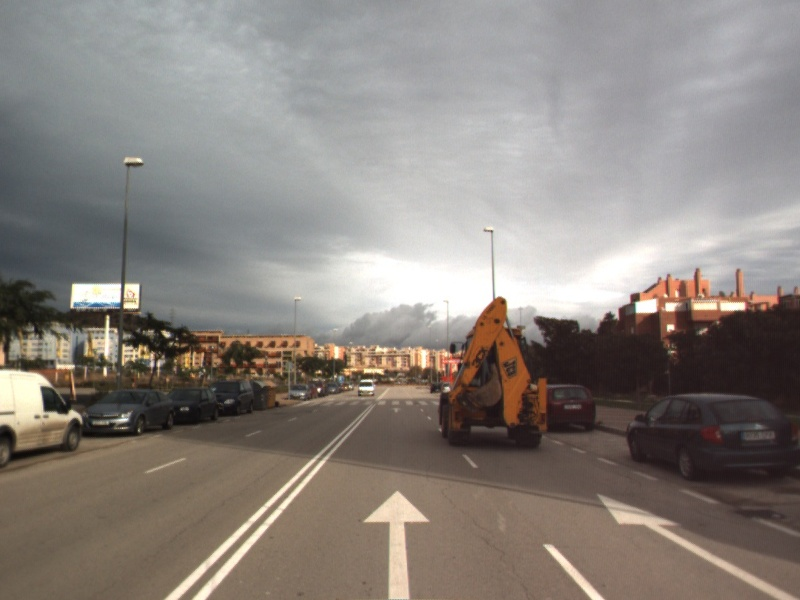STRAIGHT: (595, 492, 800, 600), (361, 488, 432, 600), (389, 405, 403, 414)
